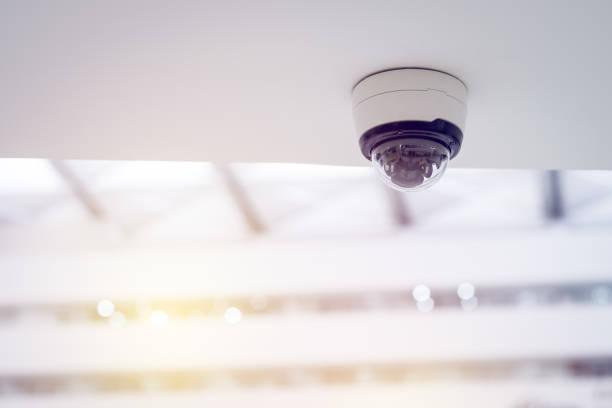camera: (341, 56, 489, 210)
